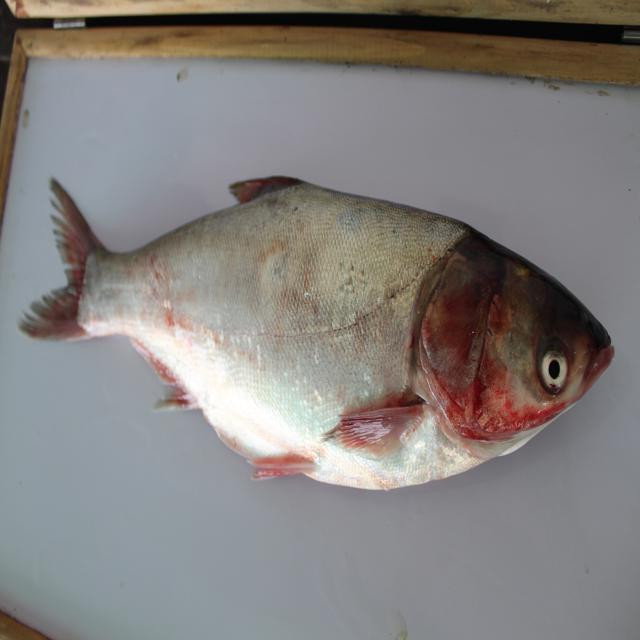SilverCarp: (29, 170, 614, 493)
